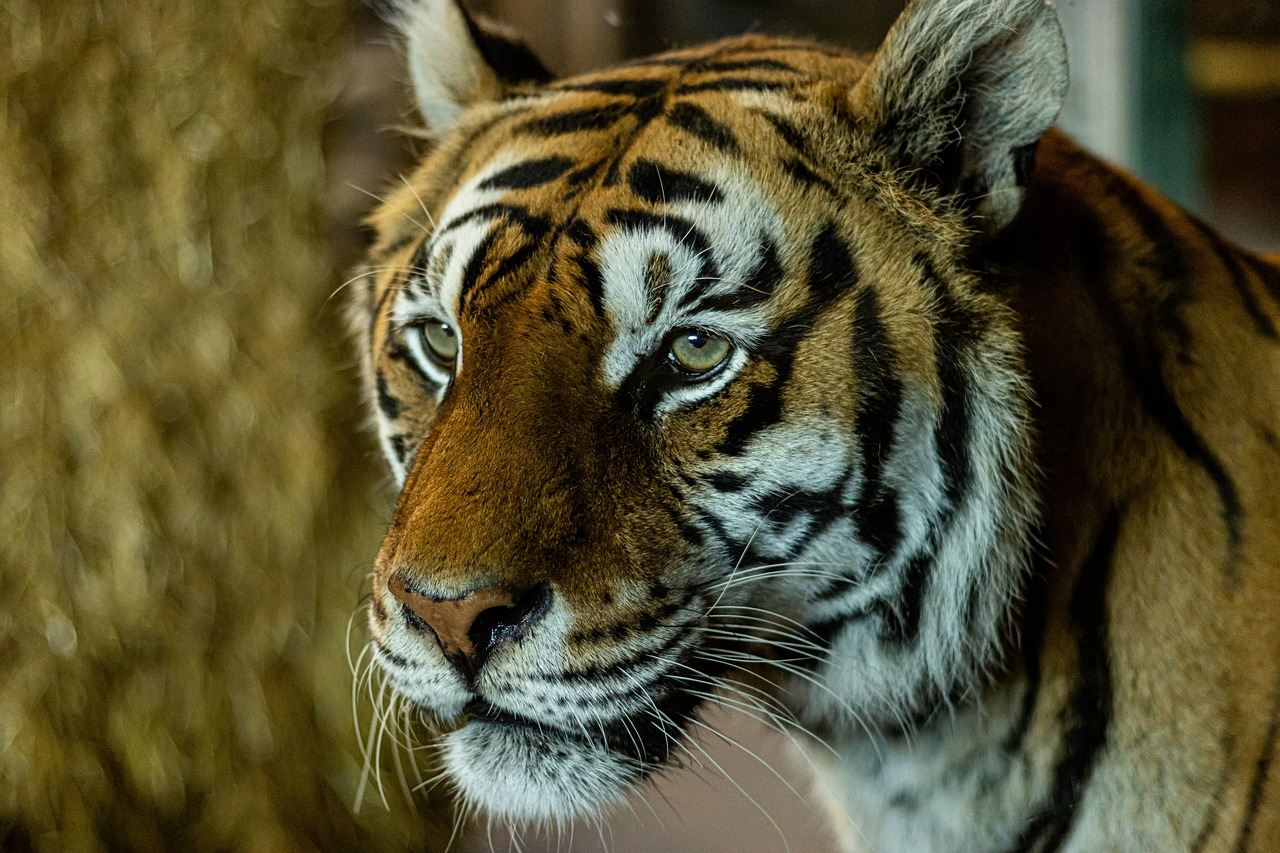tiger: (266, 4, 1161, 846)
